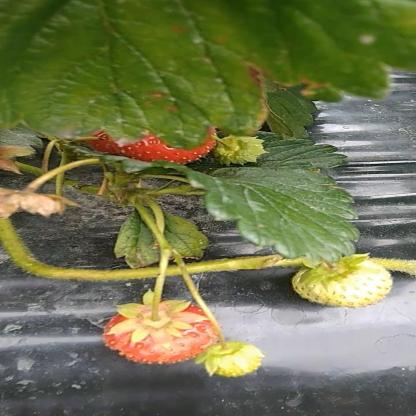ripe: (77, 88, 222, 170), (102, 300, 216, 366)
unripe: (294, 254, 396, 312), (206, 343, 262, 378)
